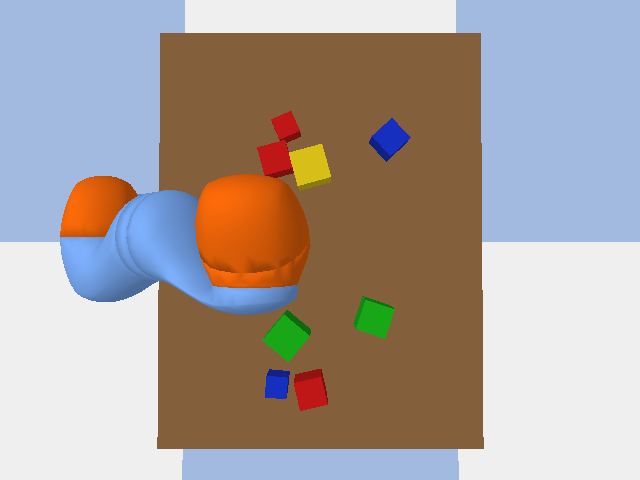blue_obj: (369, 118, 410, 161), (265, 369, 289, 398)
green_obj: (262, 310, 310, 361), (353, 296, 394, 338)
red_obj: (294, 369, 327, 410), (257, 140, 293, 177), (271, 111, 300, 142)
yellow_obj: (289, 144, 330, 190)
